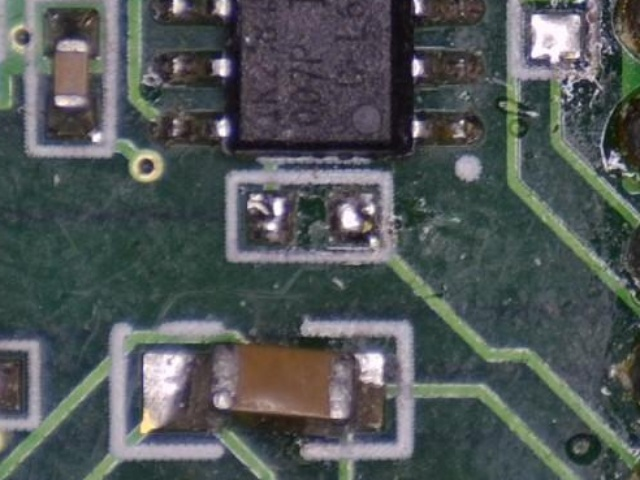pcb_defect: (139, 343, 385, 436)
